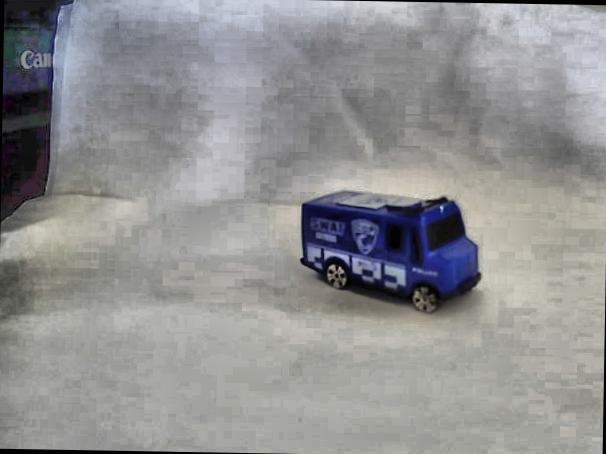police car: (296, 182, 486, 315)
